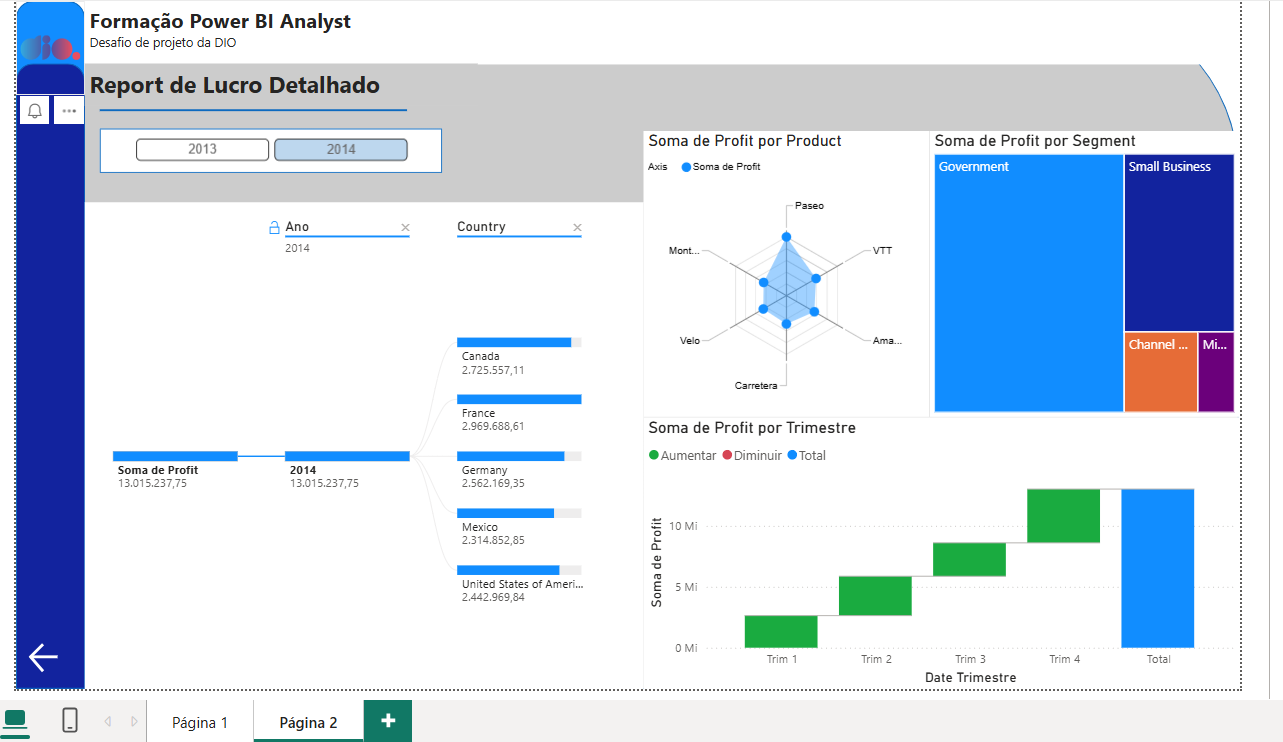

The dashboard page shown, as its layout file describes it:
{"tool":"powerbi","page":{"name":"Página 2","canvas":[1280,720],"ordinal":1},"visuals":[{"type":"shape","box":[9.8,0,1270.5,720.2],"z":0},{"type":"shape","box":[0,0,72.1,720.2],"z":1000},{"type":"shape","box":[0,66,72.1,654.2],"z":2000},{"type":"image","box":[0,0,72.1,97.8],"z":3000},{"type":"textbox","box":[72.1,0,1194.7,66],"z":4000},{"type":"actionButton","box":[9.8,667.7,48.9,40.4],"z":5000},{"type":"textbox","box":[72.1,66,410.9,44],"z":6000},{"type":"shape","box":[88,92.9,321.6,42.8],"z":7000},{"type":"shape","box":[88,133.3,358.3,46.5],"z":8000},{"type":"ChicletSlicer1448559807354","fields":{"Category":["financials.Date.Variation.Hierarquia de datas.Ano"]},"box":[117.4,135.7,299.6,52.6],"z":9000},{"type":"RadarChart1446119667547","fields":{"Y":["Sum(financials.Profit)"],"Category":["financials.Product"]},"box":[656.7,135.7,299.6,299.6],"z":10000},{"type":"treemap","fields":{"Group":["financials.Segment"],"Values":["Sum(financials.Profit)"]},"box":[956.3,135.7,324.1,299.6],"z":11000},{"type":"waterfallChart","fields":{"Category":["financials.Date.Variation.Hierarquia de datas.Trimestre"],"Y":["Sum(financials.Profit)"]},"box":[656.7,435.3,623.6,284.9],"z":12000},{"type":"decompositionTreeVisual","fields":{"Analyze":["Sum(financials.Profit)"],"ExplainBy":["financials.Date.Variation.Hierarquia de datas.Ano","financials.Country"]},"box":[72.1,210.3,584.5,509.9],"z":12001}]}

Visuals, with their boxes in screenshot pixels (x1, y1, x2, y2):
shape: 19,0,1231,683
shape: 10,0,79,683
shape: 10,60,79,683
image: 10,0,79,90
textbox: 79,0,1218,60
actionButton: 19,633,66,672
textbox: 79,60,471,102
shape: 94,85,401,126
shape: 94,124,436,168
ChicletSlicer1448559807354 - financials.Date.Variation.Hierarquia de datas.Ano: 122,126,408,176
RadarChart1446119667547 - Sum(financials.Profit) x financials.Product: 636,126,922,412
treemap - financials.Segment x Sum(financials.Profit): 922,126,1231,412
waterfallChart - financials.Date.Variation.Hierarquia de datas.Trimestre x Sum(financials.Profit): 636,412,1231,683
decompositionTreeVisual - Sum(financials.Profit) x financials.Date.Variation.Hierarquia de datas.Ano: 79,197,636,683
